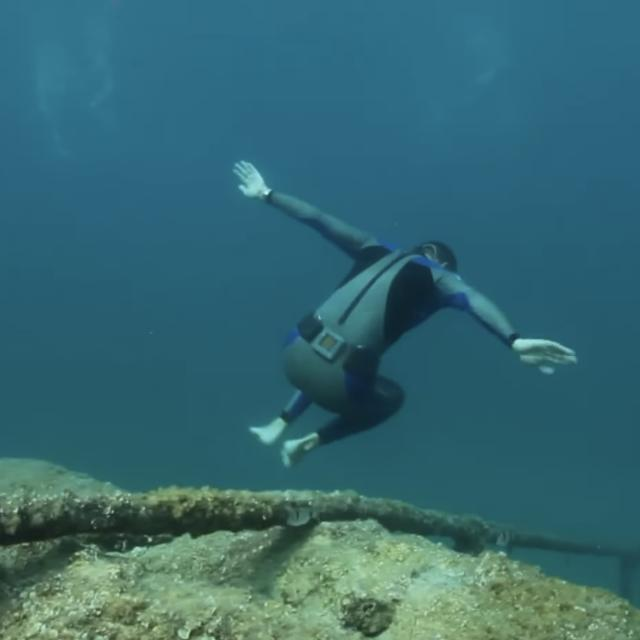human: (225, 152, 582, 477)
